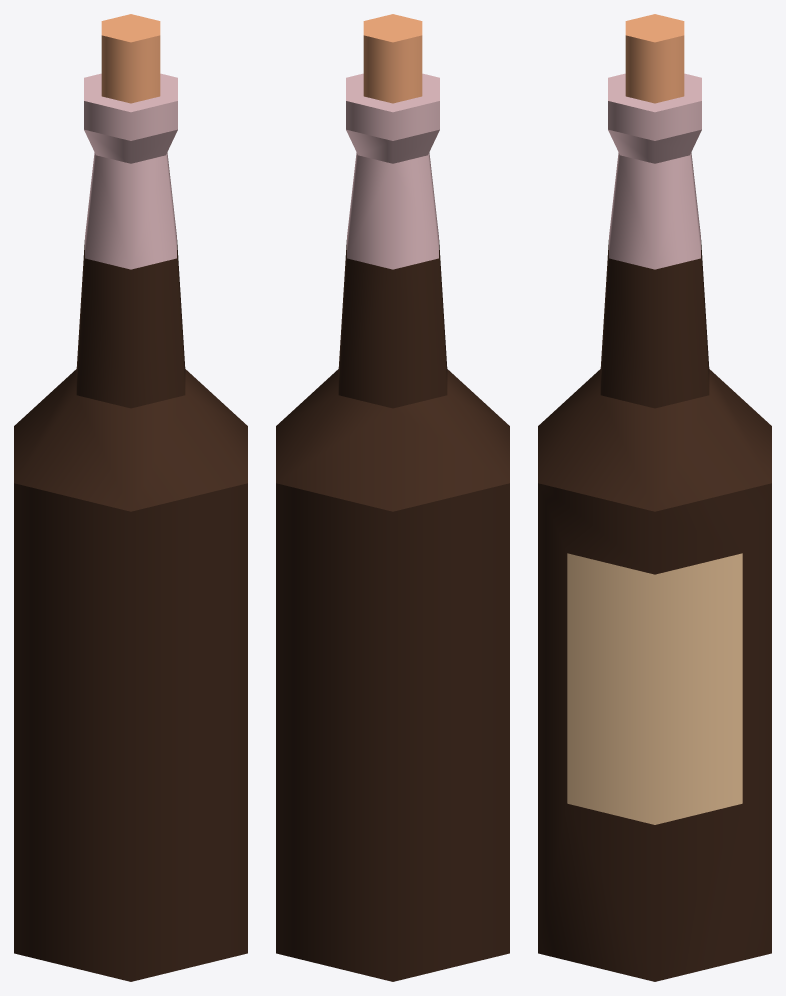
Rendered from Wine2.fbx.
3 renders of one model, left to right at view 1: azimuth 30°, elevation 25°; view 2: azimuth 150°, elevation 25°; view 3: azimuth 270°, elevation 25°, orthographic.
Parts seen in each view (by area): view 1: wineRed; view 2: wineRed; view 3: wineRed.
Part boxes in pixels (x1,y1,x2,y2): wineRed: [14, 14, 247, 981]; wineRed: [276, 14, 509, 981]; wineRed: [538, 14, 771, 981].
Bounding box in the file's own units: 19.08 × 69.89 × 16.52.
